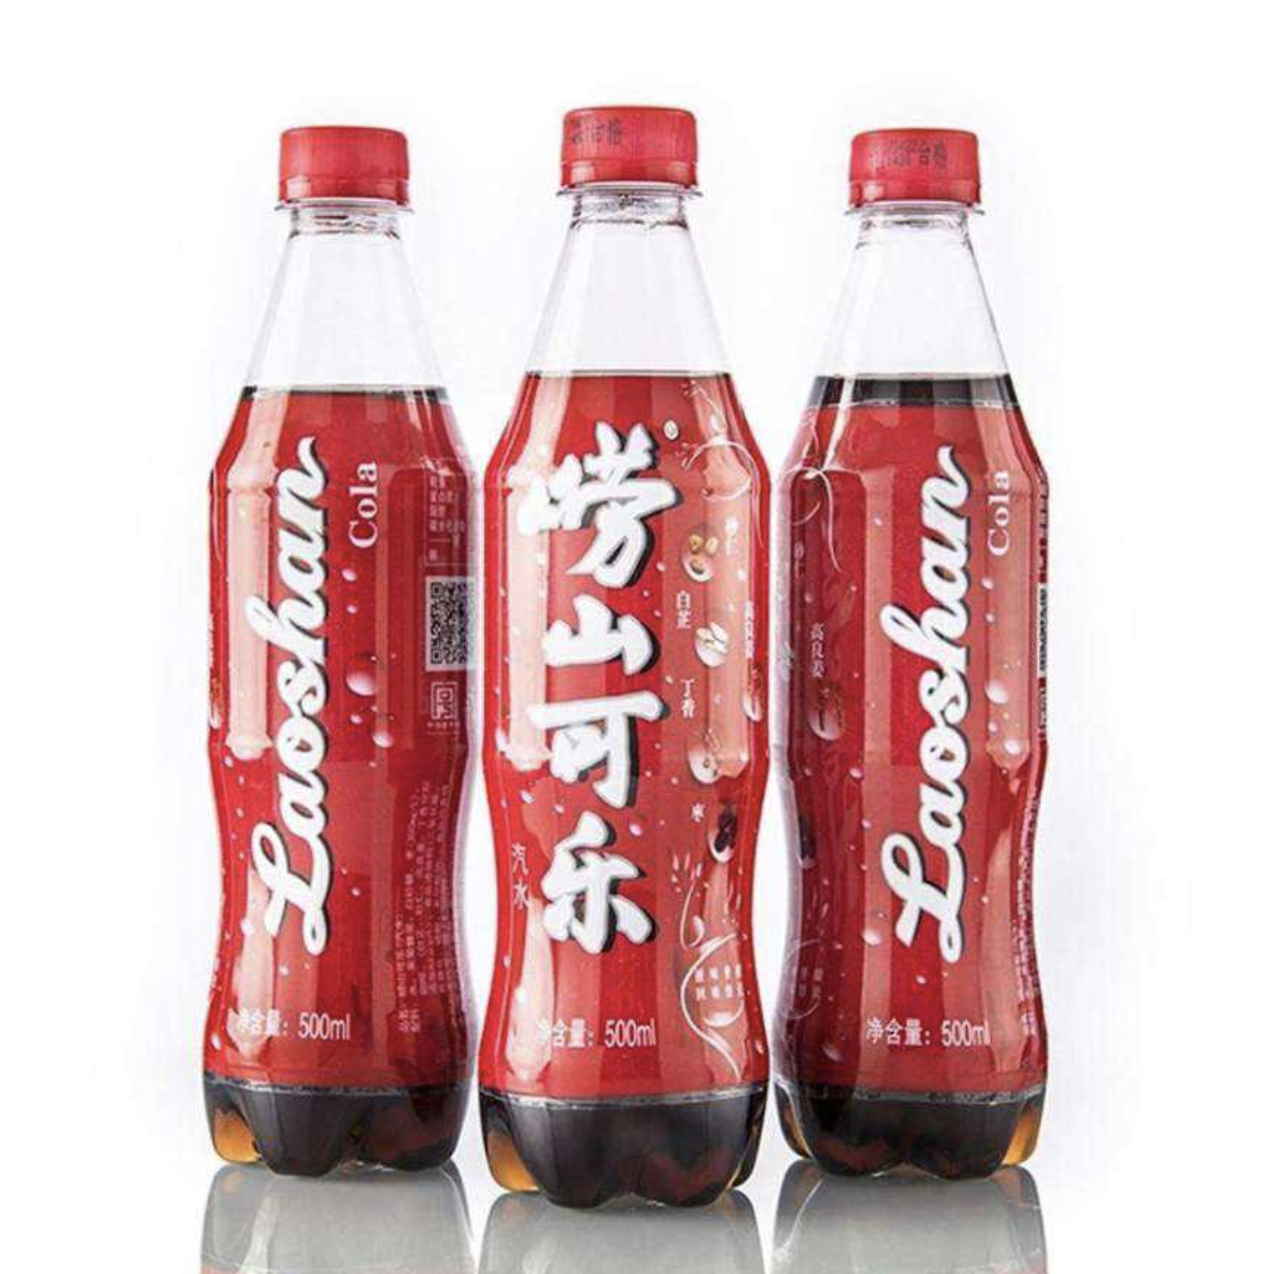其他: (473, 80, 787, 1235), (757, 87, 1071, 1211), (200, 106, 500, 1197)
